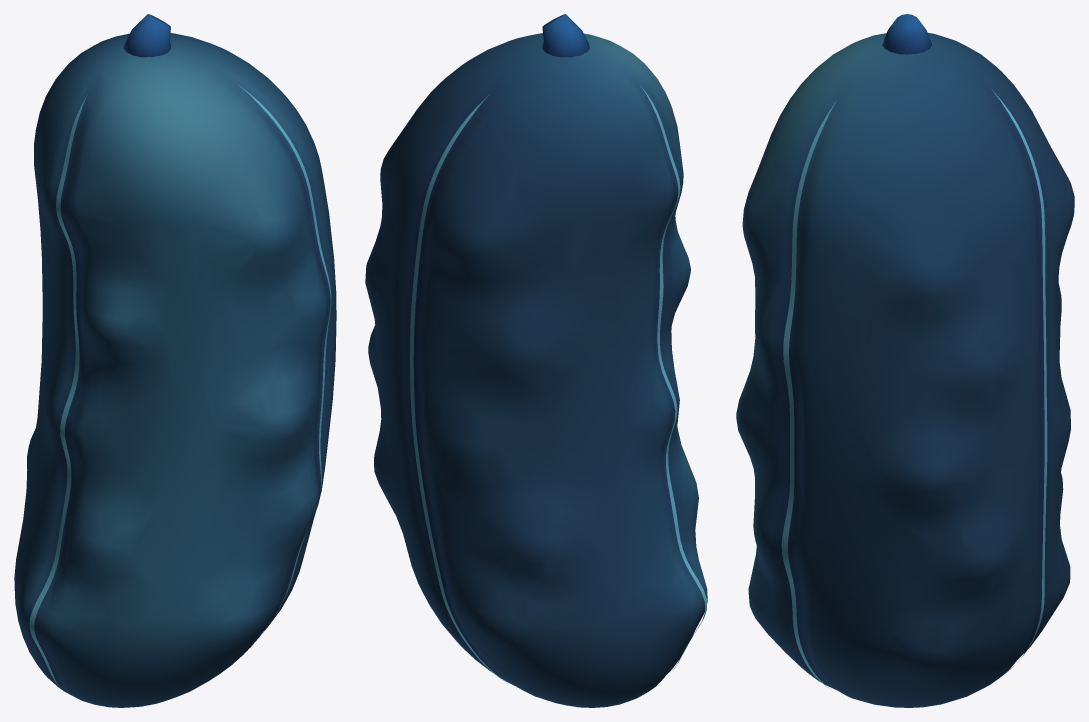
File: Plasma_Pickle.glb
3 renders of one model, left to right at view 1: azimuth 30°, elevation 25°; view 2: azimuth 150°, elevation 25°; view 3: azimuth 270°, elevation 25°, orthographic. The views are drawn at different scales.
Visible parts, largest first — view 1: Plasma_Pickle; view 2: Plasma_Pickle; view 3: Plasma_Pickle.
Boxes of the visible parts, bbox=[...] form: Plasma_Pickle: bbox=[14, 14, 336, 707]; Plasma_Pickle: bbox=[365, 14, 707, 707]; Plasma_Pickle: bbox=[736, 14, 1074, 707].
Size of the model in its own units: 0.2132 by 0.4384 by 0.1937.
